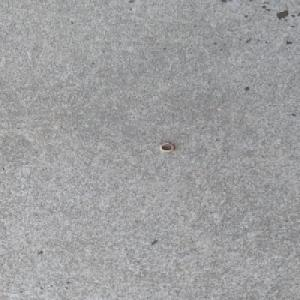Nut: (158, 142, 175, 153)
